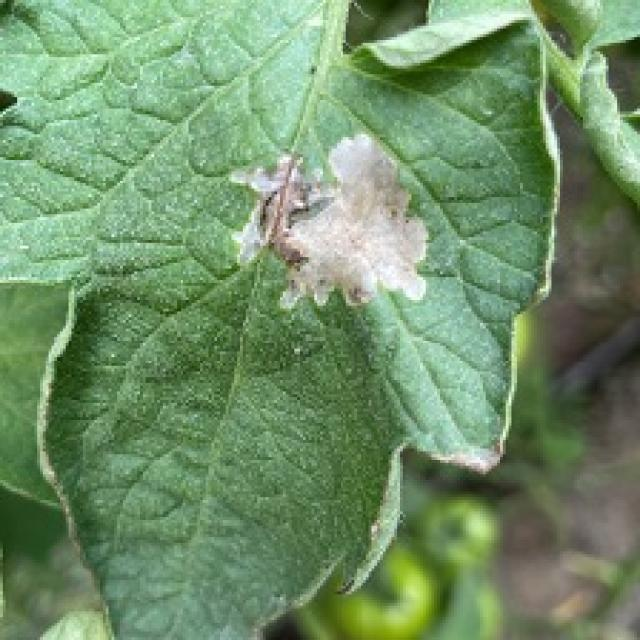Tuta absoluta: (223, 123, 434, 321)
